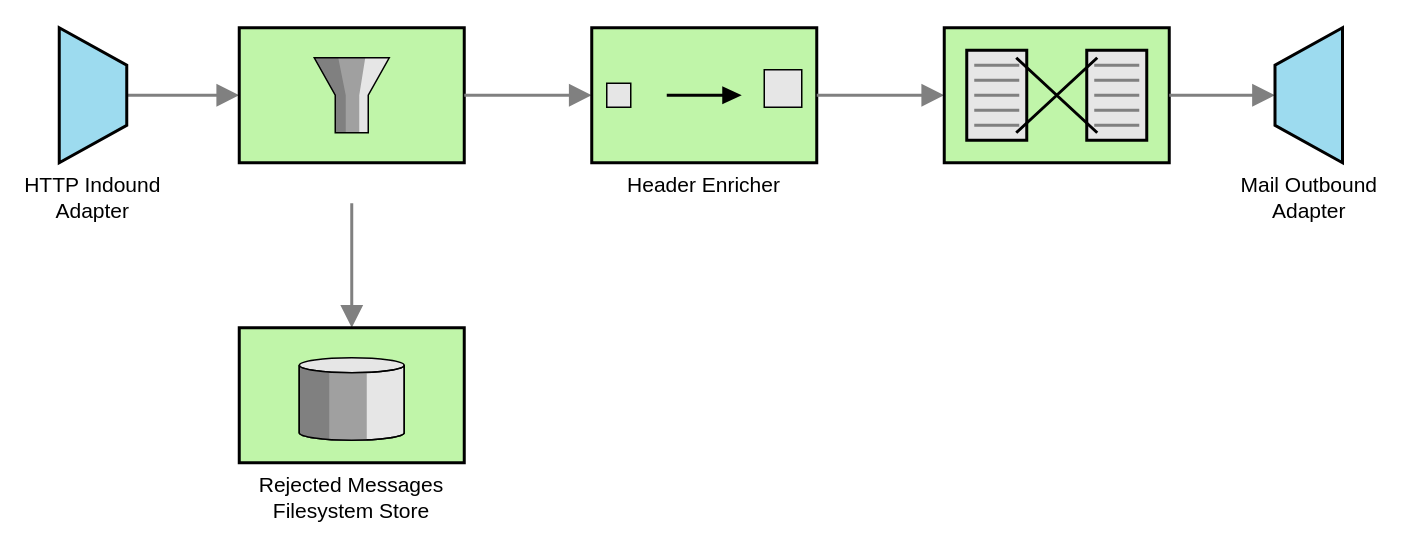
Some shapes in this 1404 by 548 pixel diagram are drawn without their labels. Here are the shapes that lost their labels. From the top down, the box of each, then its label:
(237, 26, 465, 164): XML Validating Filter
(942, 26, 1170, 164): XSLT Transformer
